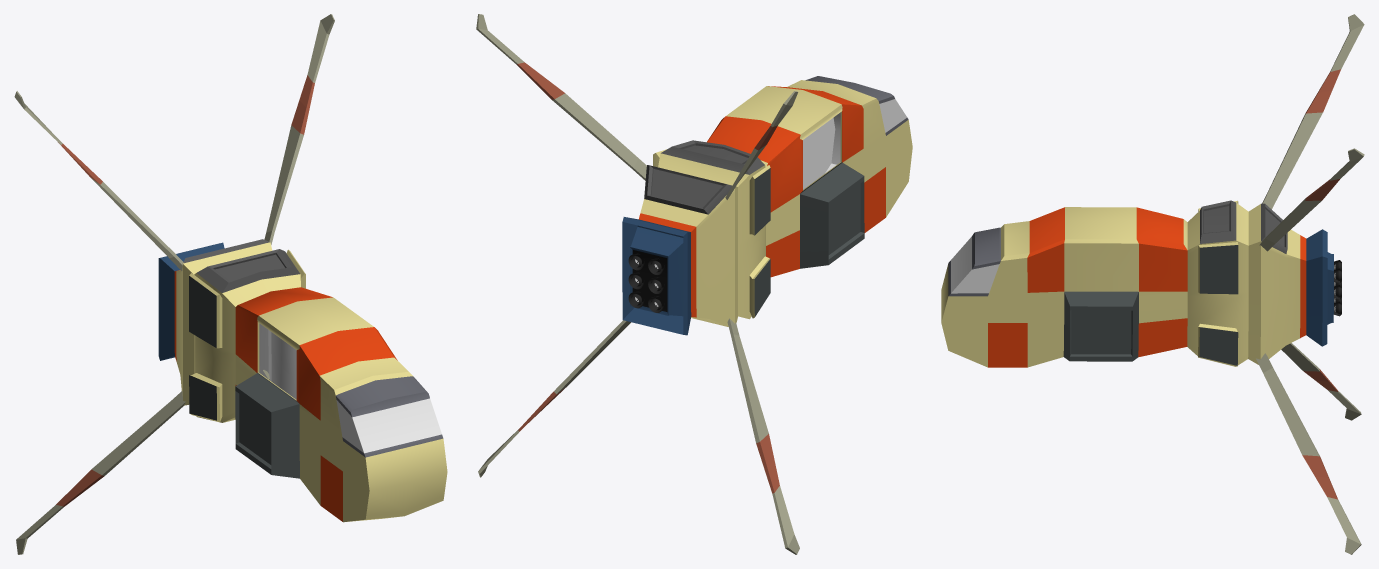
File: SpaceShipForAntti.fbx
3 renders of one model, left to right at view 1: azimuth 30°, elevation 25°; view 2: azimuth 150°, elevation 25°; view 3: azimuth 270°, elevation 25°, orthographic. The views are drawn at different scales.
Visible parts, largest first — view 1: SpaceShip, Fins.001, Fins.002; view 2: SpaceShip, Fins.002, Fins.001; view 3: SpaceShip, Fins.001, Fins.002.
Boxes of the visible parts, x1,y1,x2,y2 form: SpaceShip: (158,239,447,522); Fins.001: (14,14,334,270); Fins.002: (16,370,269,554); SpaceShip: (622,76,912,335); Fins.002: (478,318,799,554); Fins.001: (476,14,798,199); SpaceShip: (941,200,1333,367); Fins.001: (1259,14,1364,251); Fins.002: (1256,343,1361,554).
Size of the model in its own units: 12975 by 18174 by 17134.
